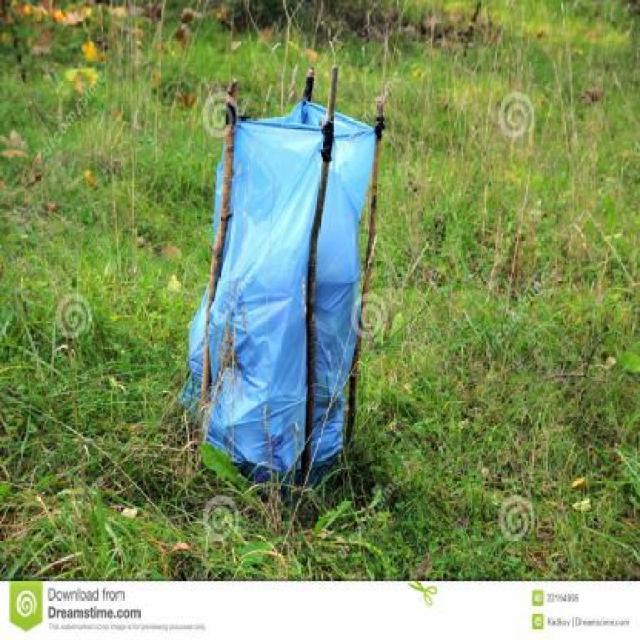garbage: (151, 69, 382, 490)
